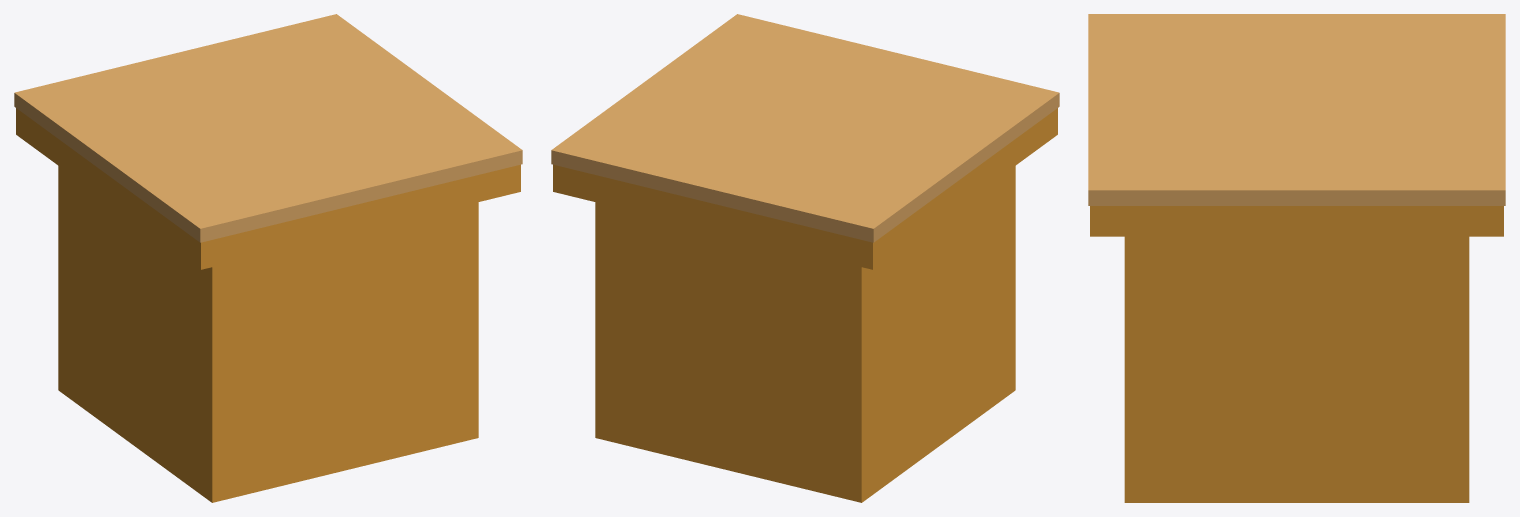
File: table2.fbx
3 renders of one model, left to right at view 1: azimuth 30°, elevation 25°; view 2: azimuth 150°, elevation 25°; view 3: azimuth 270°, elevation 25°, orthographic. The views are drawn at different scales.
Visible parts, largest first — view 1: Cube.002; view 2: Cube.002; view 3: Cube.002.
Boxes of the visible parts, x1,y1,x2,y2 form: Cube.002: (14,14,522,502); Cube.002: (551,14,1059,502); Cube.002: (1088,14,1505,502).
Bounding box in the file's own units: 242 × 210 × 242.
